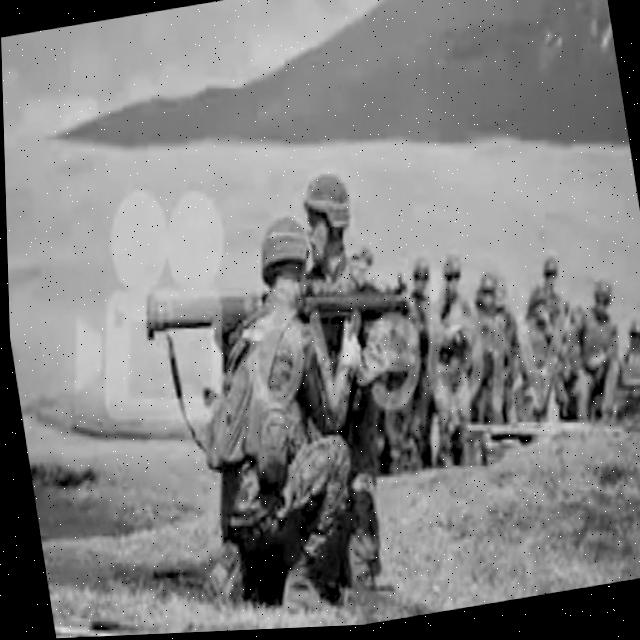rocket: (136, 238, 419, 385)
